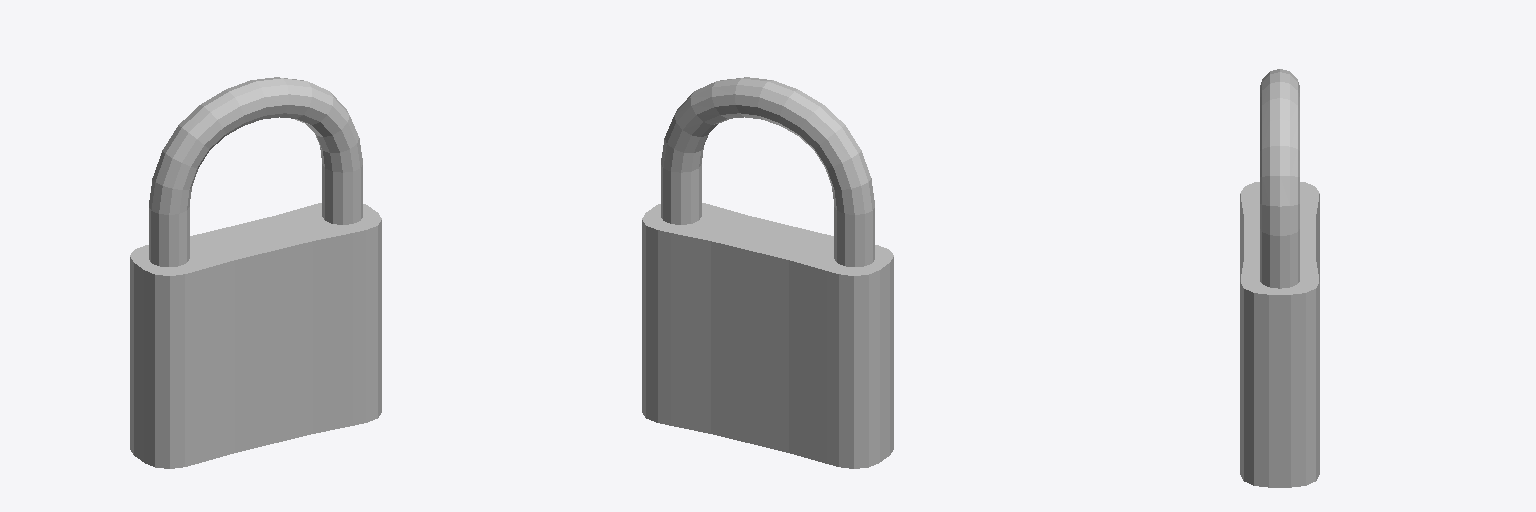
The model's file is padlock 1.obj.
The picture shows the model from 3 angles: view 1: azimuth 30°, elevation 25°; view 2: azimuth 150°, elevation 25°; view 3: azimuth 270°, elevation 25°; orthographic projection.
Parts seen in each view (by area): view 1: Padlock_LOD0_M_Padlock_0, Upper_part_LOD0_M_Padlock_0; view 2: Padlock_LOD0_M_Padlock_0, Upper_part_LOD0_M_Padlock_0; view 3: Padlock_LOD0_M_Padlock_0, Upper_part_LOD0_M_Padlock_0.
Part boxes in pixels (bbox=[...]): Padlock_LOD0_M_Padlock_0: bbox=[130, 203, 381, 468]; Upper_part_LOD0_M_Padlock_0: bbox=[149, 77, 362, 266]; Padlock_LOD0_M_Padlock_0: bbox=[642, 203, 893, 468]; Upper_part_LOD0_M_Padlock_0: bbox=[661, 77, 874, 266]; Padlock_LOD0_M_Padlock_0: bbox=[1240, 182, 1319, 487]; Upper_part_LOD0_M_Padlock_0: bbox=[1260, 69, 1299, 288].
Size of the model in its own units: 6.6 by 9.41 by 1.93.